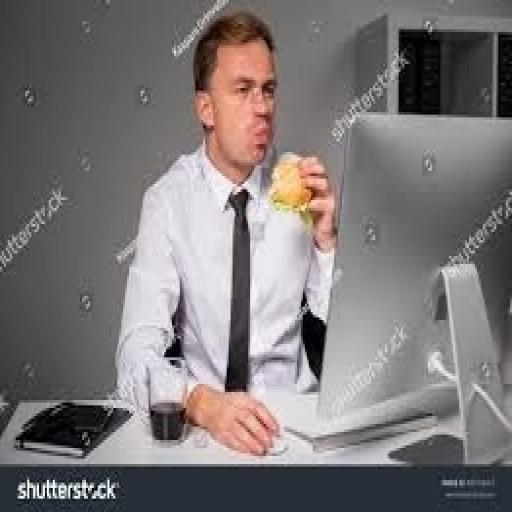eating: (109, 8, 340, 456)
